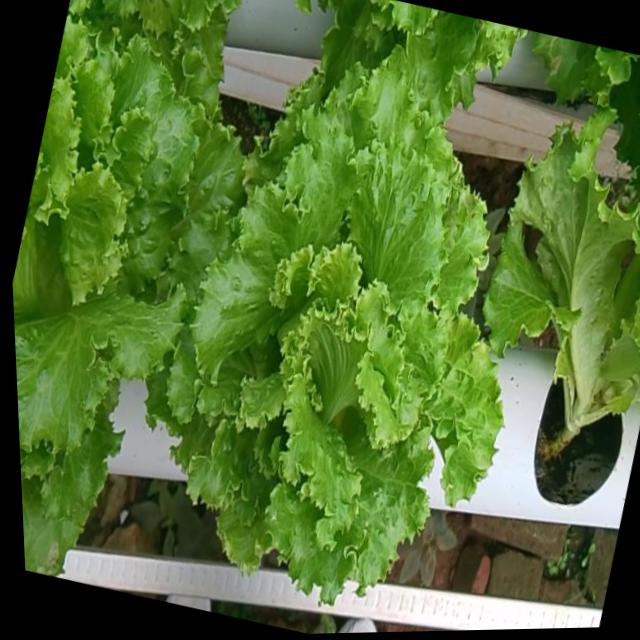Mature: (157, 75, 495, 615), (13, 44, 237, 473)
